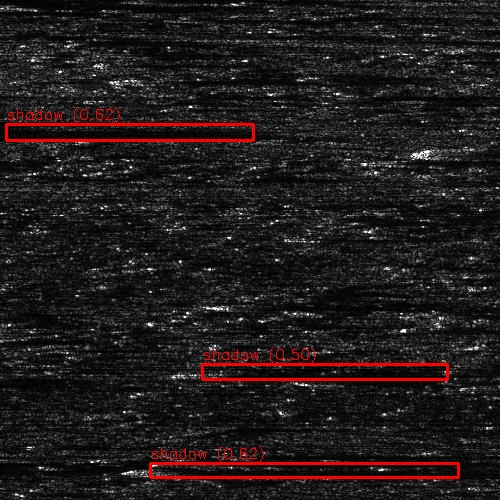rock: (124, 467, 207, 476), (189, 299, 262, 308), (455, 381, 500, 394), (210, 449, 273, 458), (183, 369, 246, 376), (443, 144, 484, 151), (389, 157, 420, 160), (171, 459, 182, 464)
shadow: (0, 459, 500, 466), (166, 467, 500, 476), (0, 467, 500, 472), (242, 449, 500, 458), (226, 299, 468, 308), (215, 369, 476, 376), (177, 459, 249, 464), (405, 157, 500, 160), (464, 144, 500, 151)
